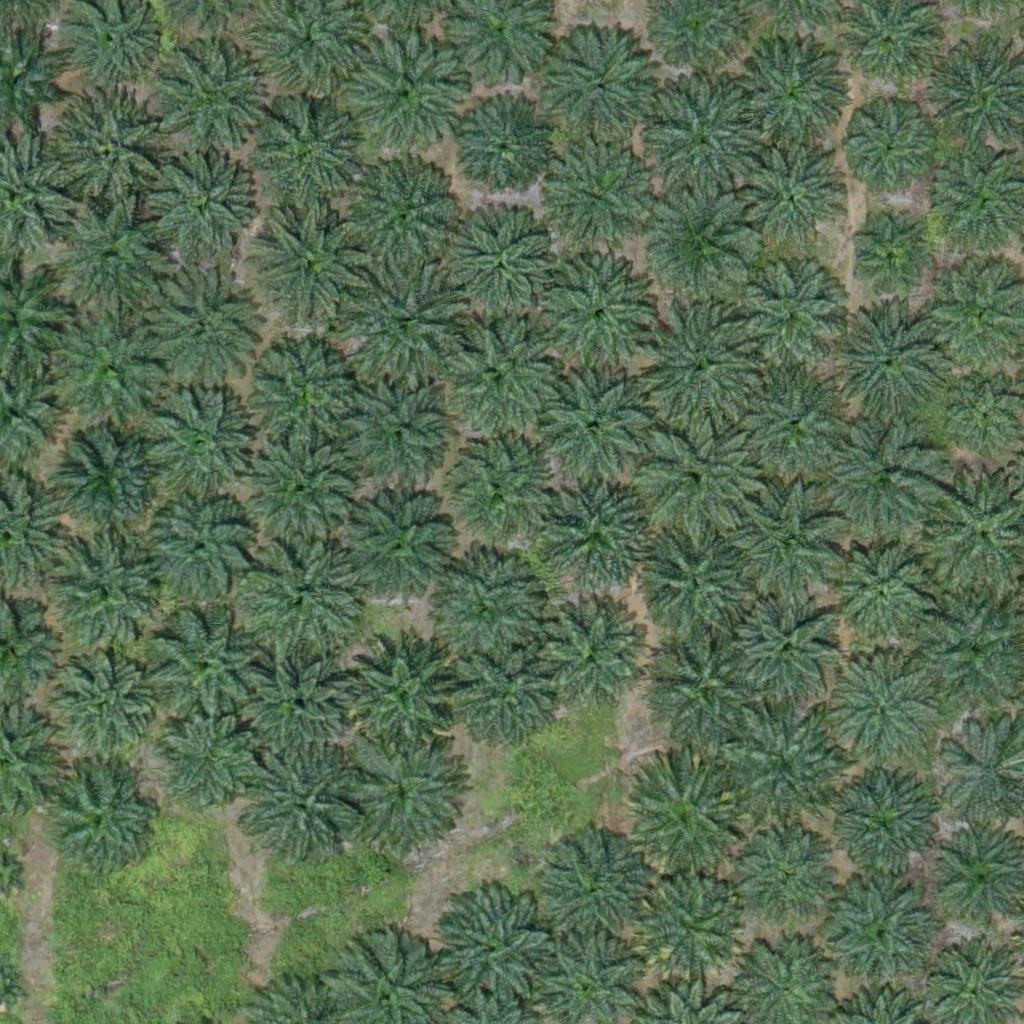Kelapa_Sawit: (642, 81, 767, 207), (341, 155, 466, 281), (247, 96, 372, 222), (247, 208, 372, 334), (42, 87, 167, 213), (50, 198, 175, 324), (40, 305, 165, 431), (134, 387, 259, 513), (137, 264, 262, 390), (139, 607, 264, 733), (244, 427, 369, 553), (243, 535, 368, 661), (239, 743, 364, 869), (425, 317, 550, 443), (338, 628, 463, 754), (342, 732, 467, 858), (635, 302, 760, 428), (631, 417, 756, 543), (429, 886, 554, 1012), (339, 27, 464, 152), (244, 333, 369, 458), (430, 428, 555, 553), (419, 546, 544, 671), (622, 761, 747, 886), (40, 644, 153, 758), (52, 537, 165, 651), (153, 706, 266, 820), (736, 368, 849, 482), (733, 261, 846, 375), (644, 189, 757, 302), (538, 143, 651, 256), (541, 25, 654, 138), (44, 763, 157, 876), (55, 425, 168, 538), (339, 491, 452, 604), (340, 377, 453, 490), (353, 262, 466, 375), (445, 636, 558, 749), (732, 593, 845, 706), (729, 489, 842, 602), (828, 773, 941, 886), (828, 309, 940, 423), (830, 423, 942, 537), (734, 33, 846, 146), (455, 212, 567, 325), (141, 148, 253, 261), (157, 42, 269, 155), (145, 495, 257, 608), (237, 651, 349, 764), (536, 599, 648, 712), (543, 474, 655, 587), (535, 371, 647, 484), (540, 261, 652, 374), (640, 531, 752, 644), (647, 629, 759, 742), (729, 716, 841, 829), (743, 147, 843, 248), (455, 98, 555, 199), (836, 658, 936, 759), (831, 882, 931, 983), (734, 825, 834, 926), (640, 875, 740, 976), (550, 837, 650, 938), (829, 541, 929, 641), (846, 106, 934, 194), (848, 1, 936, 89), (849, 221, 924, 297)
